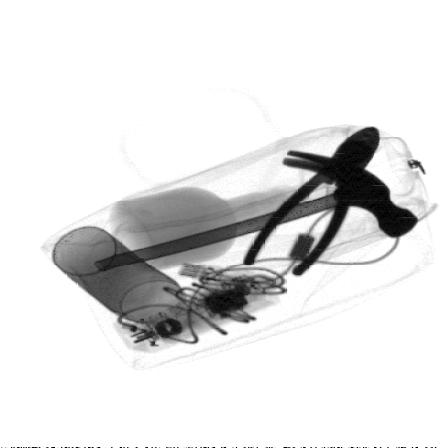Hammer: (95, 150, 421, 272)
Pliers: (242, 122, 383, 279)
